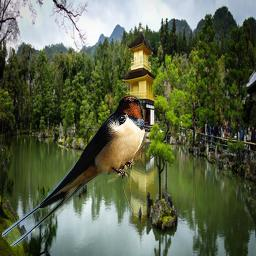Swallow: (2, 95, 145, 246)
